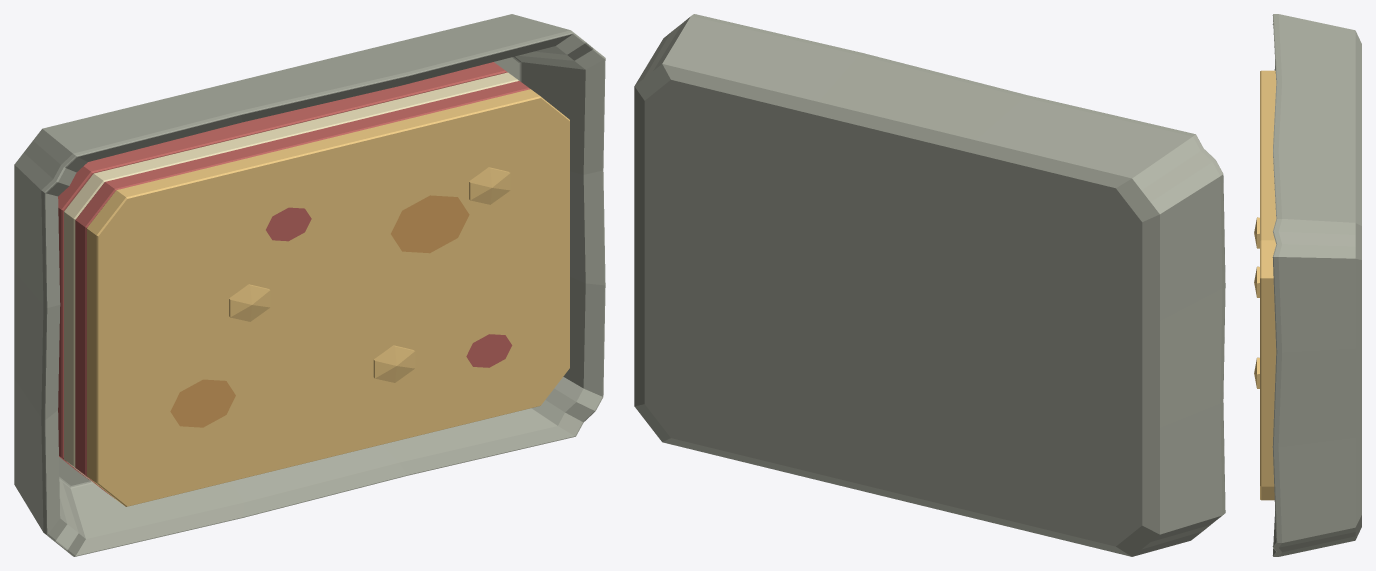
The model's file is lasagna.glb.
3 renders of one model, left to right at view 1: azimuth 30°, elevation 25°; view 2: azimuth 150°, elevation 25°; view 3: azimuth 270°, elevation 25°, orthographic. The views are drawn at different scales.
Visible parts, largest first — view 1: lasagna; view 2: lasagna; view 3: lasagna.
Boxes of the visible parts, x1,y1,x2,y2 form: lasagna: (14, 14, 605, 556); lasagna: (634, 14, 1225, 556); lasagna: (1254, 14, 1361, 556).
Size of the model in its own units: 0.17 by 0.117 by 0.0338.
